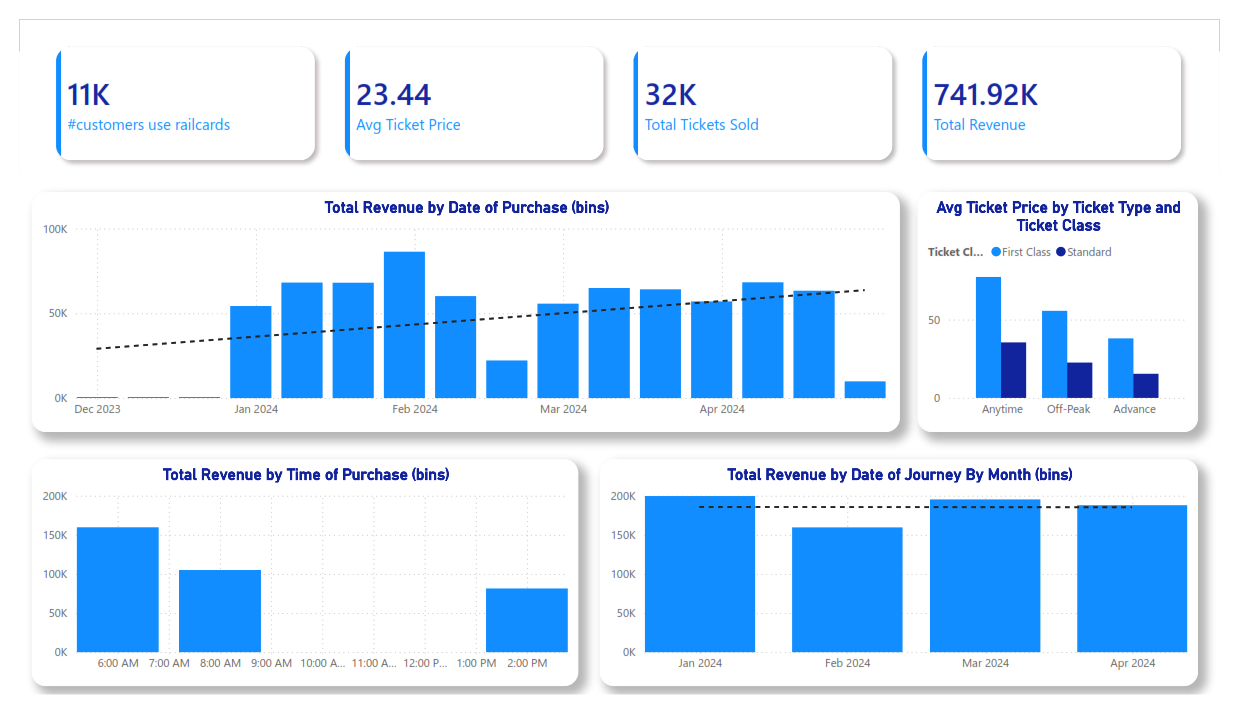

This screenshot's page, from the dashboard's own definition file:
{"tool":"powerbi","page":{"name":"analysis_revenue_trends","canvas":[1280,720],"ordinal":3},"visuals":[{"type":"clusteredColumnChart","fields":{"Category":["Sheet1.Time of Purchase (bins)"],"Y":["Sheet1.Total Revenue"]},"box":[12.9,468.8,583.5,242.3],"z":0},{"type":"clusteredColumnChart","fields":{"Category":["Sheet1.Date of Purchase (bins)"],"Y":["Sheet1.Total Revenue"]},"box":[12.9,183.5,926.2,256.6],"z":1000},{"type":"lineClusteredColumnComboChart","fields":{"Y":["Sheet1.Total Revenue"],"Category":["Sheet1.Date of Journey By Month (bins)"]},"box":[619.4,468.8,638,242.3],"z":2000},{"type":"clusteredColumnChart","fields":{"Category":["Sheet1.Ticket Type"],"Series":["Sheet1.Ticket Class"],"Y":["Sheet1.Avg Ticket Price"]},"box":[957.7,183.5,299.6,256.6],"z":3000},{"type":"cardVisual","fields":{"Data":["Sheet1.#customers use railcards","Sheet1.Avg Ticket Price","Sheet1.Total Tickets Sold","Sheet1.Total Revenue"]},"box":[9.6,0,1259.7,179.8],"z":4000}]}

Visuals, with their boxes on the page's 1280x720 design canvas (x1, y1, x2, y2). These are canvas units, not pixel positions in the 1236x717 screenshot, which may show the page scaled, cropped or inside an application window:
clusteredColumnChart - Sheet1.Time of Purchase (bins) x Sheet1.Total Revenue: Rect(13, 469, 596, 711)
clusteredColumnChart - Sheet1.Date of Purchase (bins) x Sheet1.Total Revenue: Rect(13, 184, 939, 440)
lineClusteredColumnComboChart - Sheet1.Total Revenue x Sheet1.Date of Journey By Month (bins): Rect(619, 469, 1257, 711)
clusteredColumnChart - Sheet1.Ticket Type x Sheet1.Ticket Class: Rect(958, 184, 1257, 440)
cardVisual - Sheet1.#customers use railcards x Sheet1.Avg Ticket Price: Rect(10, 0, 1269, 180)
